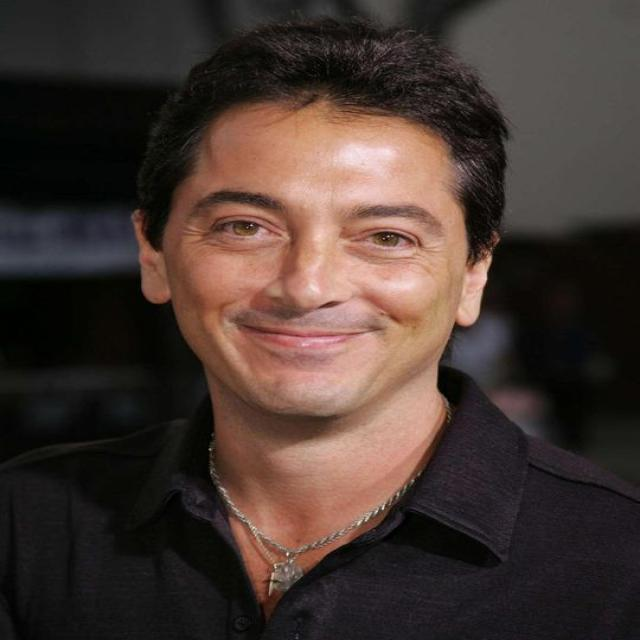0_rostro_limpio: (155, 82, 482, 428)
